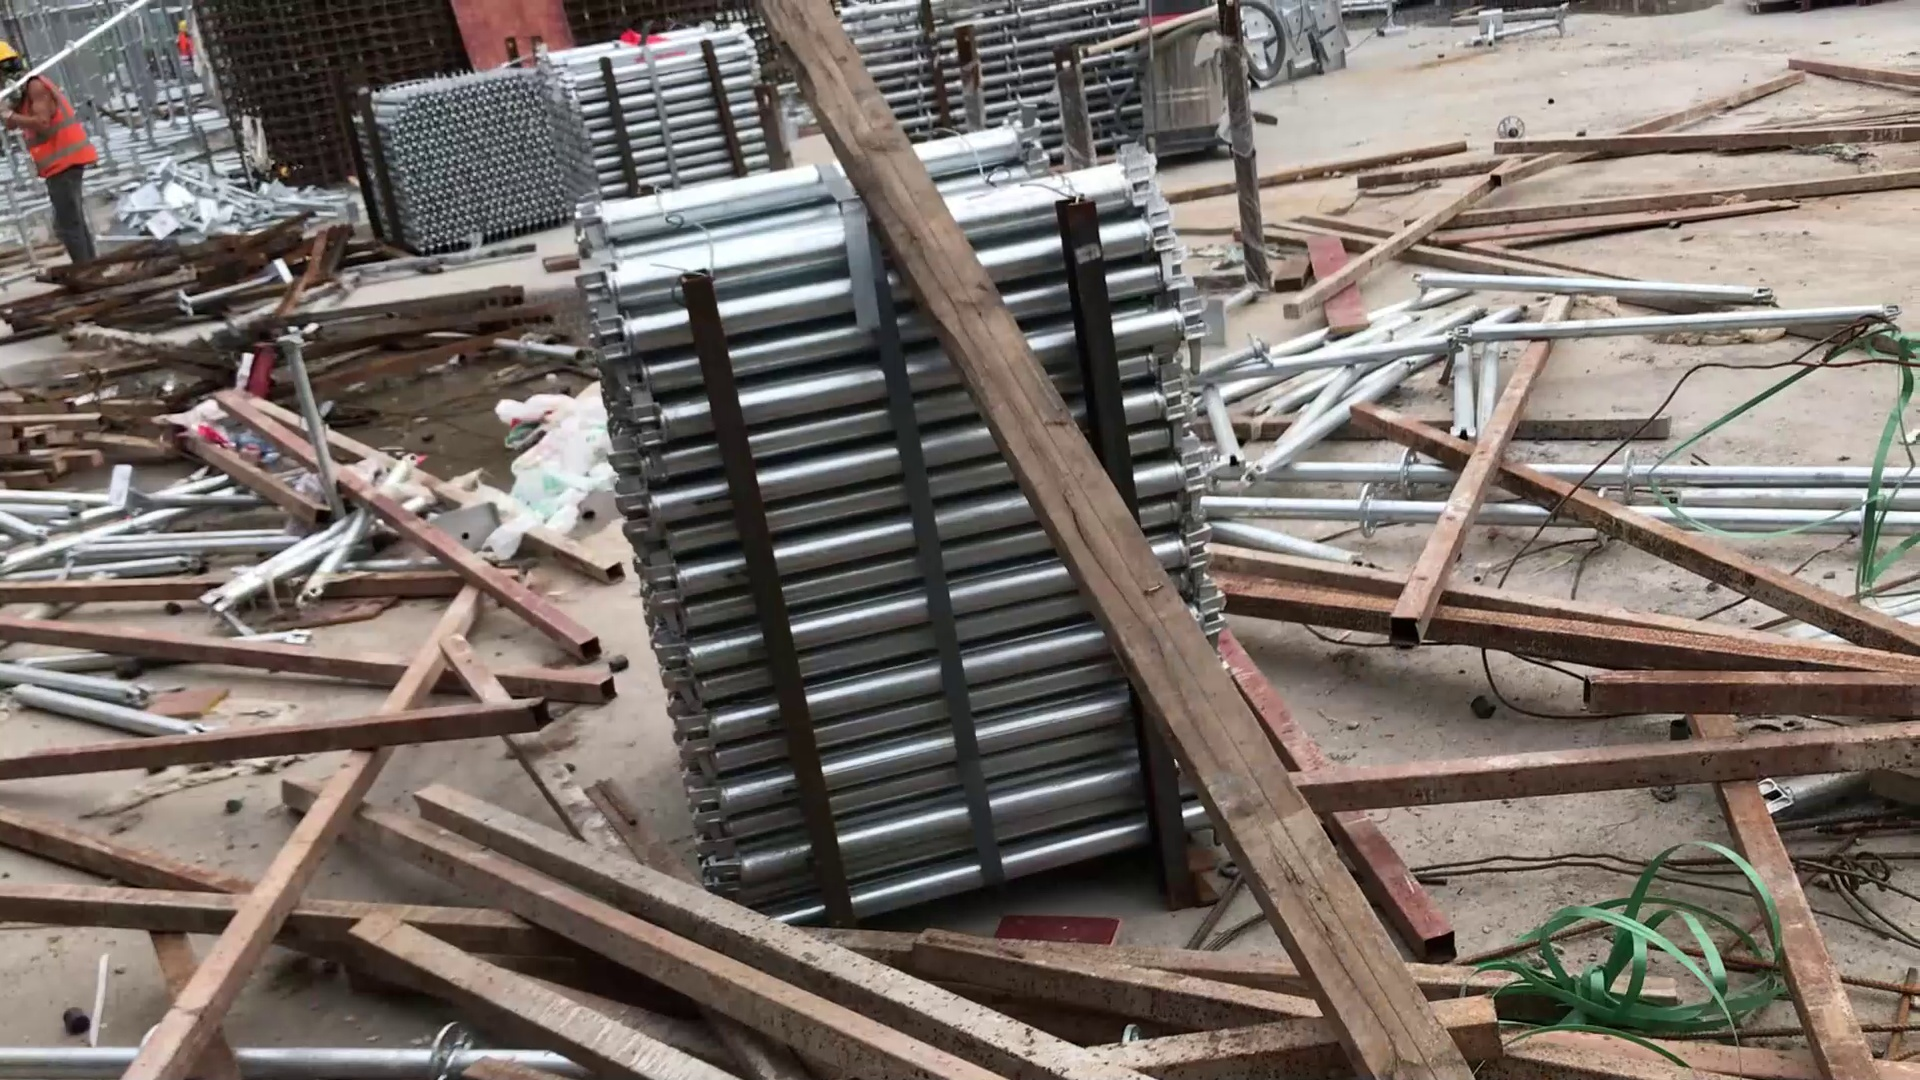person: (1, 35, 101, 277)
scaffold: (543, 129, 1236, 940), (835, 7, 1160, 149), (526, 28, 789, 192), (346, 65, 577, 242)
wood: (107, 596, 1387, 1080)
